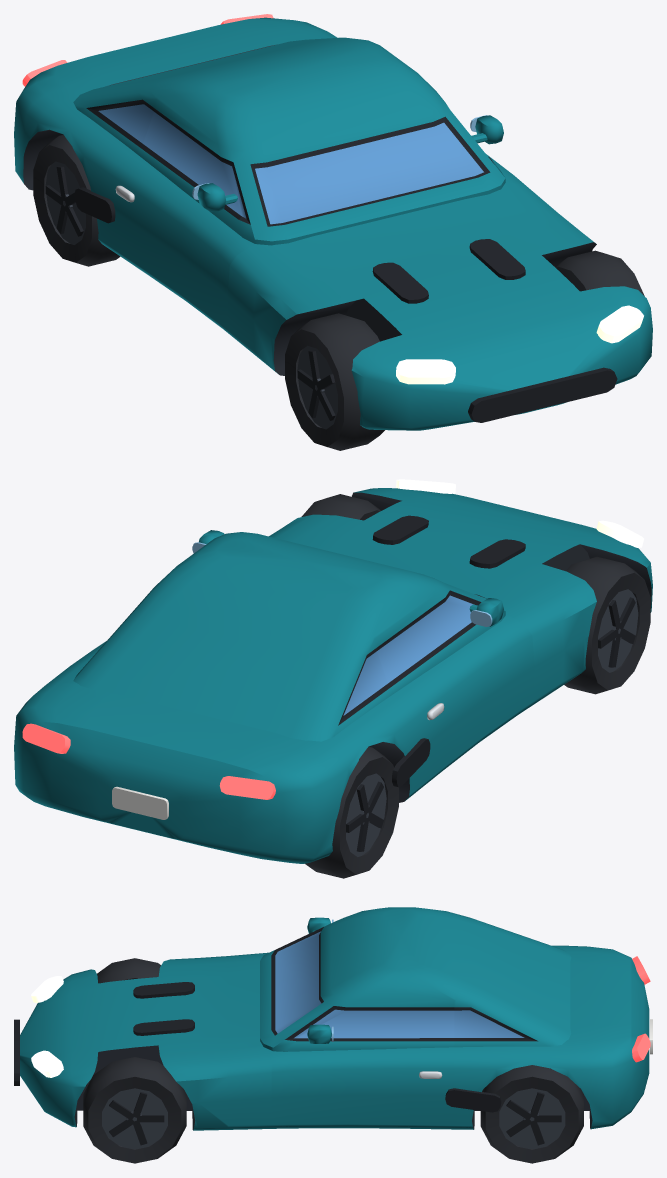
The model's file is cupe_verde_agua.glb.
3 renders of one model, top to bottom at view 1: azimuth 30°, elevation 25°; view 2: azimuth 150°, elevation 25°; view 3: azimuth 270°, elevation 25°, orthographic. The views are drawn at different scales.
Visible parts, largest first — view 1: cupe_verde_agua, porta_dianteira_esq, roda_dianteira_esq, roda_traseira_esq, roda_dianteira_dir; view 2: cupe_verde_agua, porta_dianteira_esq, roda_dianteira_esq, roda_traseira_esq, roda_dianteira_dir; view 3: cupe_verde_agua, porta_dianteira_dir, roda_dianteira_dir, roda_traseira_dir, roda_dianteira_esq.
Boxes of the visible parts, x1=… form: cupe_verde_agua: x1=14, y1=14, x2=652, y2=430; porta_dianteira_esq: x1=110, y1=107, x2=257, y2=330; roda_dianteira_esq: x1=285, y1=313, x2=384, y2=450; roda_traseira_esq: x1=33, y1=134, x2=120, y2=266; roda_dianteira_dir: x1=555, y1=250, x2=644, y2=296; cupe_verde_agua: x1=14, y1=479, x2=652, y2=863; porta_dianteira_esq: x1=377, y1=590, x2=534, y2=786; roda_dianteira_esq: x1=564, y1=556, x2=650, y2=694; roda_traseira_esq: x1=305, y1=746, x2=398, y2=878; roda_dianteira_dir: x1=301, y1=494, x2=380, y2=520; cupe_verde_agua: x1=14, y1=907, x2=652, y2=1130; porta_dianteira_dir: x1=271, y1=1006, x2=454, y2=1125; roda_dianteira_dir: x1=83, y1=1057, x2=186, y2=1163; roda_traseira_dir: x1=480, y1=1065, x2=583, y2=1163; roda_dianteira_esq: x1=97, y1=958, x2=160, y2=983.
Bounding box in the file's own units: 2 × 1.29 × 4.34.
4 materials, 1 textured.
